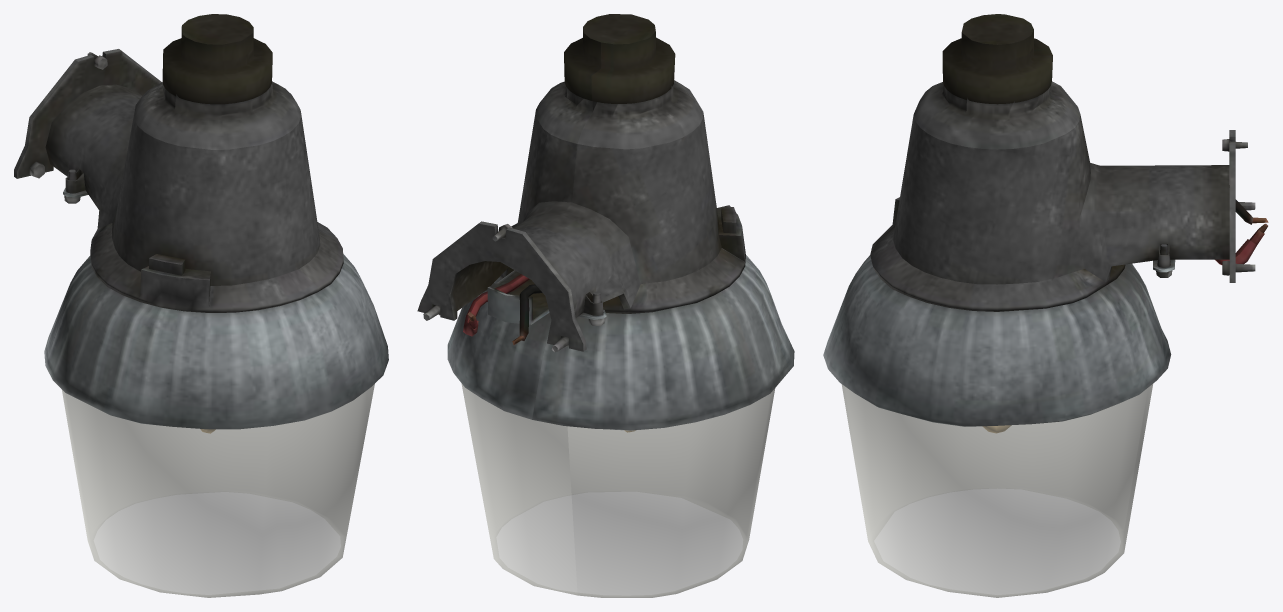
The model's file is SecurityLight.obj.
3 renders of one model, left to right at view 1: azimuth 30°, elevation 25°; view 2: azimuth 150°, elevation 25°; view 3: azimuth 270°, elevation 25°, orthographic.
Visible parts, largest first — view 1: security_light_611014, security_light_glass; view 2: security_light_611014, security_light_glass; view 3: security_light_611014, security_light_glass.
Boxes of the visible parts, x1,y1,x2,y2 form: security_light_611014: (14, 14, 388, 429); security_light_glass: (61, 384, 374, 597); security_light_611014: (417, 14, 794, 430); security_light_glass: (461, 383, 775, 597); security_light_611014: (823, 14, 1268, 426); security_light_glass: (841, 384, 1152, 597).
Size of the model in its own units: 0.3232 by 0.5309 by 0.4171.
3 materials, 1 textured.
